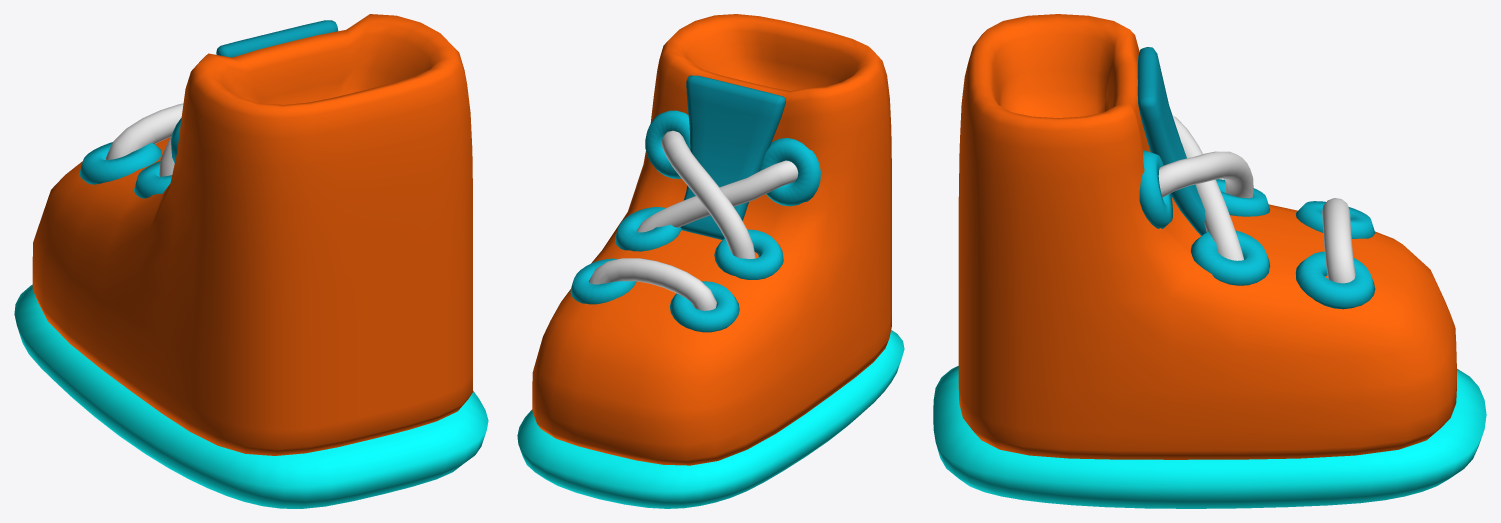
Rendered from shoe.glb.
3 views of the same model, side by side, from view 1: azimuth 30°, elevation 25°; view 2: azimuth 150°, elevation 25°; view 3: azimuth 270°, elevation 25° (orthographic). The views are drawn at different scales.
Visible parts, largest first — view 1: Object_2; view 2: Object_2; view 3: Object_2.
Part boxes in pixels (box(x1,y1,x2,y2)): Object_2: box(14, 14, 488, 508); Object_2: box(517, 14, 904, 508); Object_2: box(933, 14, 1486, 508).
Bounding box in the file's own units: 3.42 × 4.24 × 5.55.
Materials: 1 (1 with a texture image).
